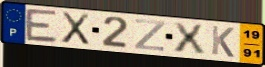2: (101, 16, 131, 50)
E: (24, 7, 59, 44)
K: (210, 24, 236, 59)
X: (171, 21, 208, 55), (60, 10, 91, 47)
Z: (133, 18, 168, 53)
